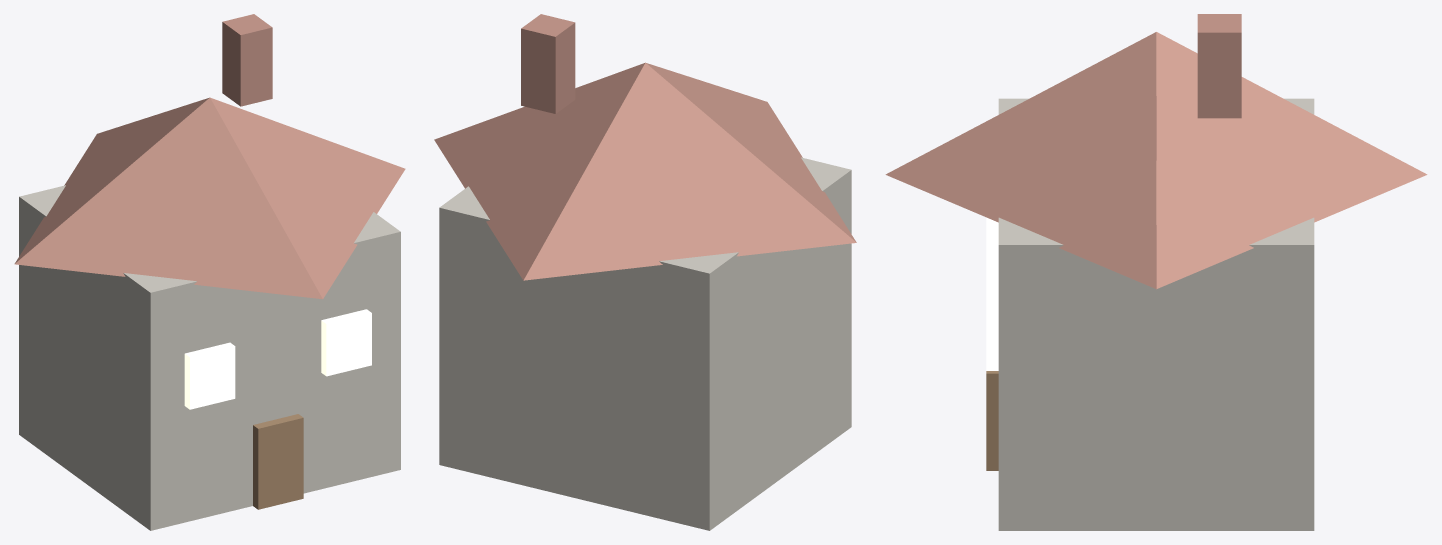
The model's file is house.glb.
3 views of the same model, side by side, from view 1: azimuth 30°, elevation 25°; view 2: azimuth 150°, elevation 25°; view 3: azimuth 270°, elevation 25° (orthographic). The views are drawn at different scales.
Visible parts, largest first — view 1: MetroHouse; view 2: MetroHouse; view 3: MetroHouse.
Boxes of the visible parts, x1,y1,x2,y2 form: MetroHouse: (14, 14, 405, 530); MetroHouse: (434, 14, 856, 530); MetroHouse: (885, 14, 1427, 530).
Size of the model in its own units: 1.72 by 1.65 by 1.72.
